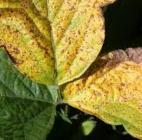Tomato Septoria leaf spot: (0, 0, 117, 100), (54, 16, 142, 135), (0, 43, 77, 137)
